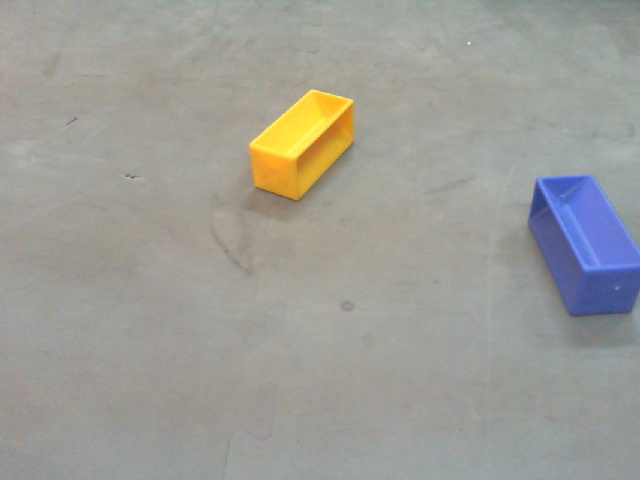BlueSample: (525, 173, 639, 316)
YellowSample: (245, 89, 357, 202)
